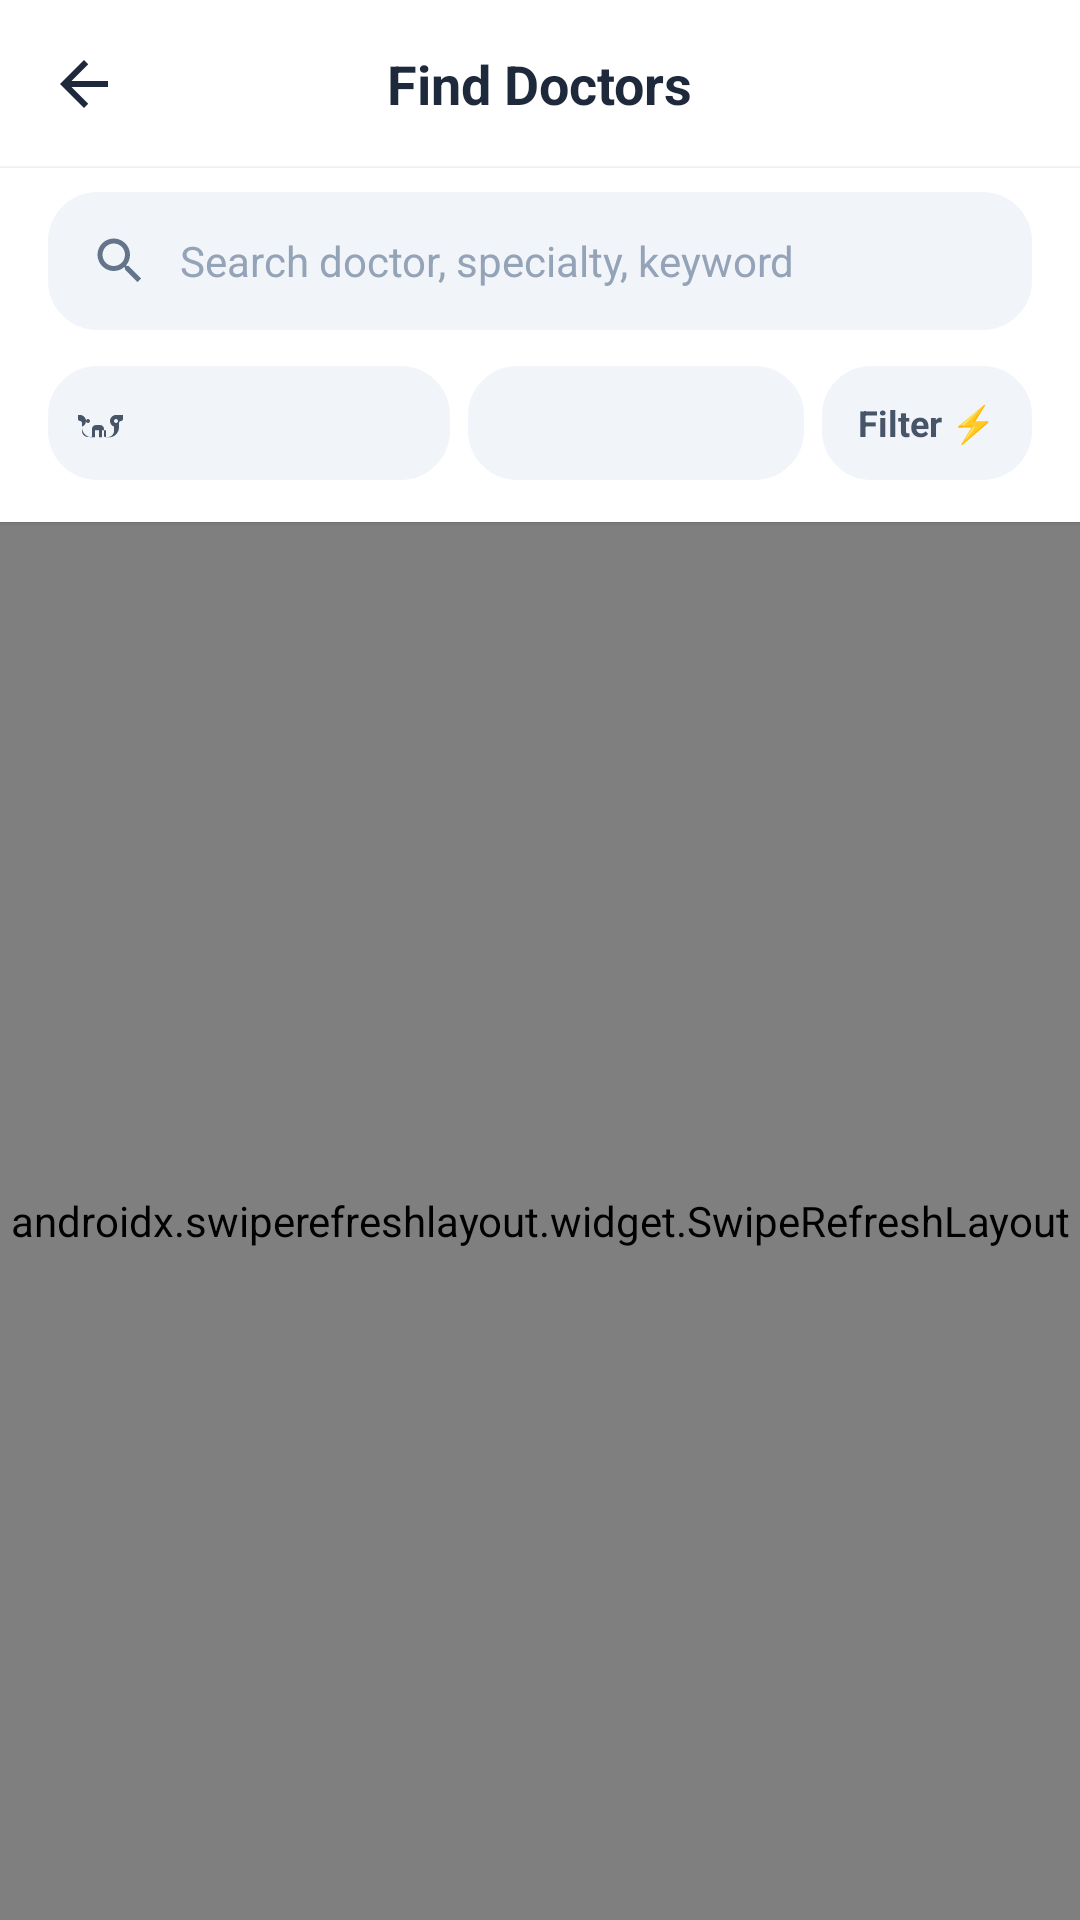

Icons on this 1080w x 1920h Android screen, each with its box as (x1, y1, x2, y2):
back arrow: (60, 60, 108, 108)
